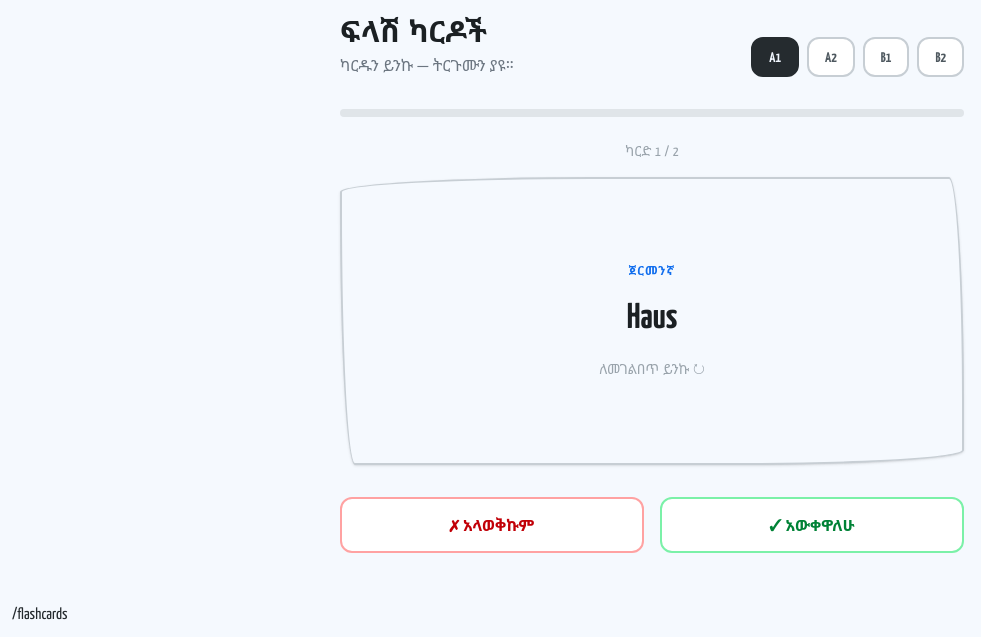
Scenario: Flashcards › records known and unknown answers for a logged-in user and shows the tally
Check: the text "ካርድ 1 / 2" is shown, box [625,141,679,160]
Step 1. Click the button "✓ አውቀዋለሁ" → (812, 525), box [660,497,964,553]
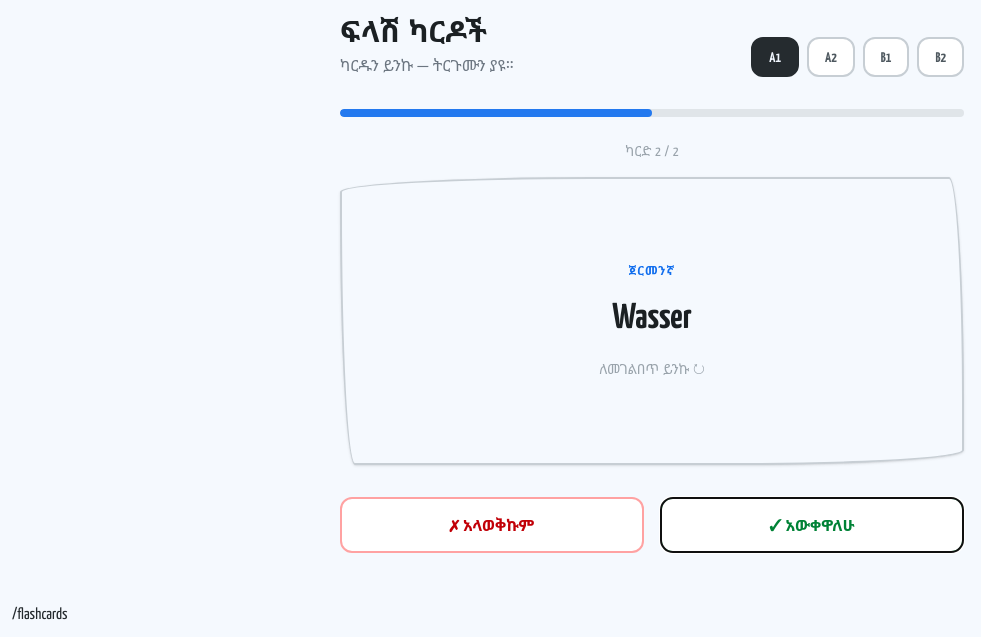
Check: the text "ካርድ 2 / 2" is shown, box [625,141,679,160]
Step 2. Click the button "✗ አላወቅኩም" → (492, 525), box [340,497,644,553]
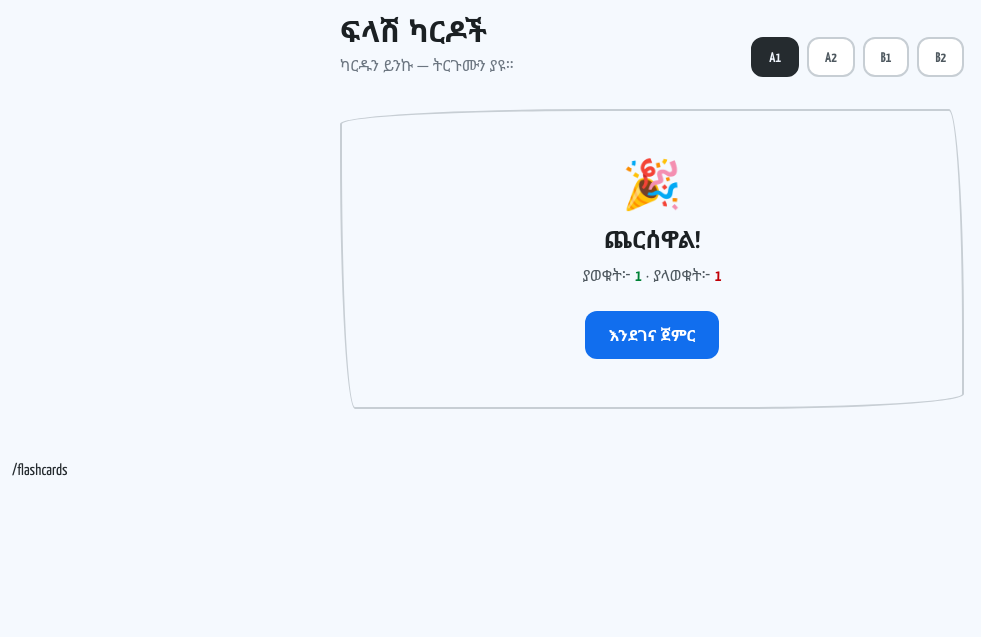
Check: the heading "ጨርሰዋል!" is shown, box [604,222,700,255]
Check: the text "ያወቁት፦ 1 · ያላወቁት፦ 1" is shown, box [583,264,721,286]
